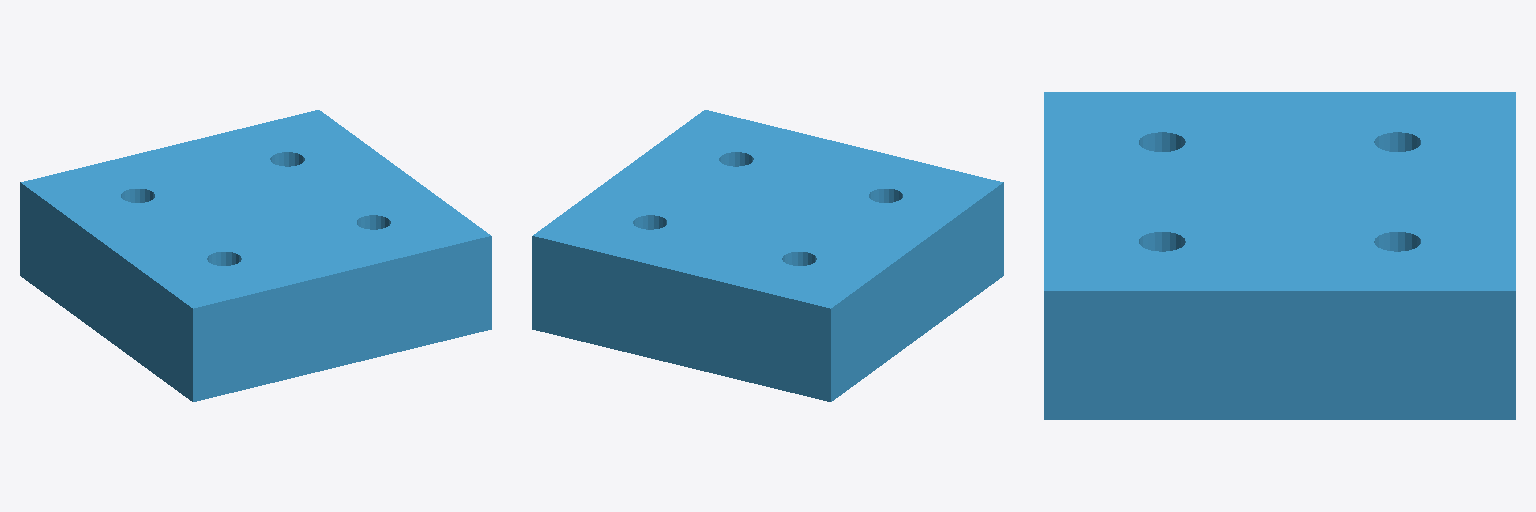
robot.urdf — screw_box:
<?xml version="1.0"?>
<robot name="screw_box">

<link name="world"/>
<joint name="fixed" type="fixed">
  <parent link="world"/>
  <child link="base_link"/>
</joint>

<link name="base_link">

  <collision>
    <origin xyz="0 0 0" rpy="0 0 0"/>
    <geometry>
      <mesh filename="package://ur_description/meshes/ur3/collision/screw_box.dae" scale="0.01 0.01 0.01"/>
    </geometry>
  </collision>

  <visual>
    <origin xyz="0 0 0" rpy="0 0 0"/>
    <geometry>
      <mesh filename="package://ur_description/meshes/ur3/visual/screw_box.dae" scale="0.01 0.01 0.01"/>
    </geometry>
  </visual>

  <inertial>
   <origin xyz="0 0 0" rpy="0 0 0"/>
   <mass value="100" />
   <inertia
      ixx="0.00000379215" ixy="0.0"  ixz="0.0"
      iyy="0.00000379215" iyz="0.0"  izz="0.00000379215" />
  </inertial>

</link>

<gazebo reference="base_link">
  <mu1>100</mu1>
  <mu2>100</mu2>
  <kp>2147483647</kp>
  <kd>1</kd>
  <maxVel>0</maxVel>
  <minDepth>0.001</minDepth>
  <material>Gazebo/WoodFloor</material>
</gazebo>

</robot>

--- What the picture shows (computed from the rendered views, not written in the file) ---
The picture shows the robot from 3 angles, left to right: view 1: azimuth 30°, elevation 25°; view 2: azimuth 150°, elevation 25°; view 3: azimuth 270°, elevation 25°; orthographic projection.
Robot: screw_box — 2 links, 1 joints (1 fixed); root link world; default pose: all joints at 0.
Links seen in each view (by area): view 1: base_link; view 2: base_link; view 3: base_link.
Boxes of the visible links, x1,y1,x2,y2 form: base_link: (20, 110, 491, 401); base_link: (532, 110, 1003, 401); base_link: (1044, 92, 1515, 419).
Size in the robot's own frame: 0.1 by 0.1 by 0.03 metres.
1 mesh visuals loaded from 1 distinct referenced files (1 Collada DAE).
